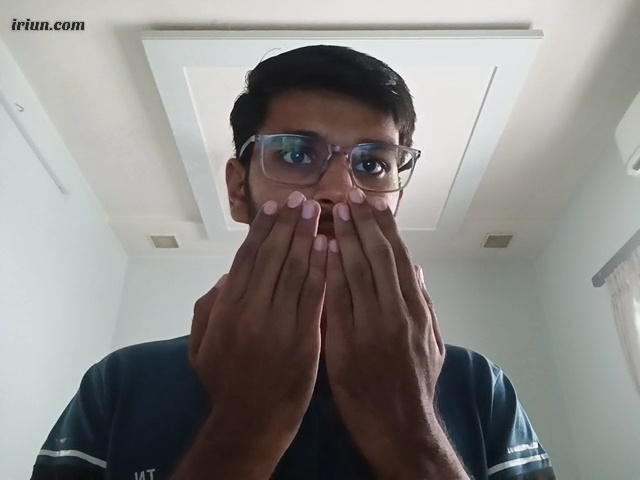Thank You: (178, 188, 459, 425)
